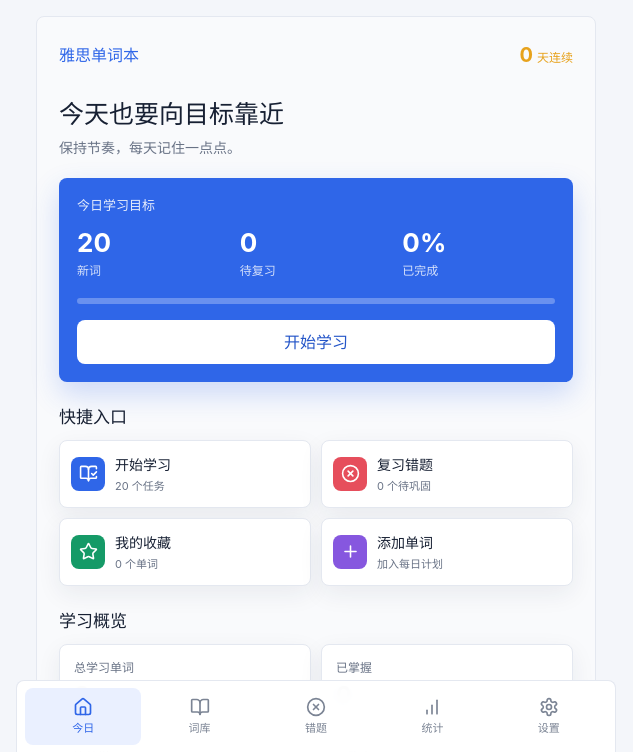
Scenario: App › loads local data and shows the approved five-tab navigation
This screenshot has width=633, height=752.
Expected: the heading "今天也要向目标靠近" is shown, [59, 99, 284, 129]
Expected: the button "今日" is shown, [25, 688, 141, 745]
Click the button "词库" at [200, 716], box [141, 688, 258, 745]
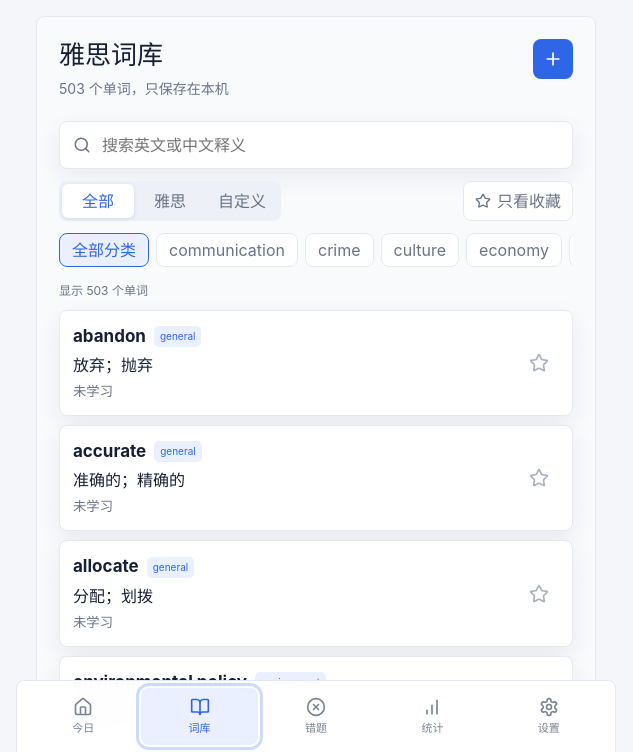
Now the heading "雅思词库" is shown, box [59, 39, 163, 70]
Click the button "错题" at [316, 716], box [258, 688, 374, 745]
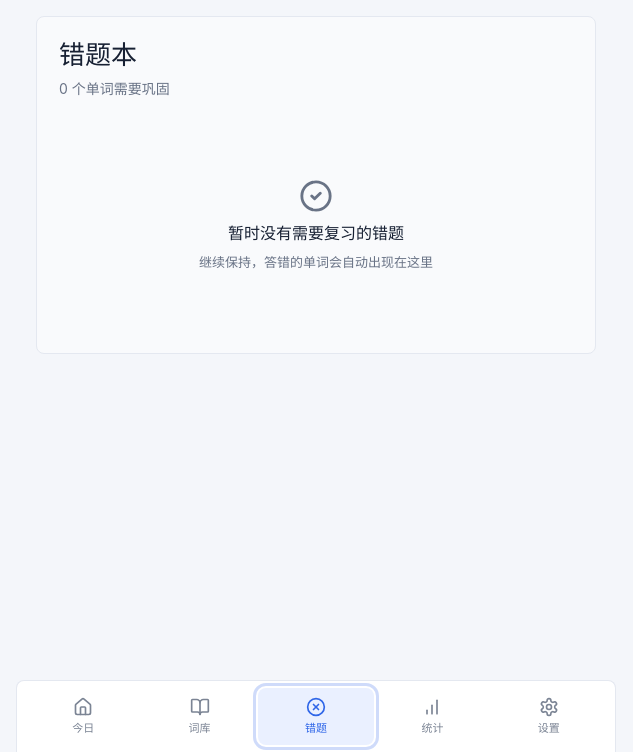
Now the heading "错题本" is shown, box [59, 39, 137, 70]
Click the button "设置" at [549, 716], box [491, 688, 607, 745]
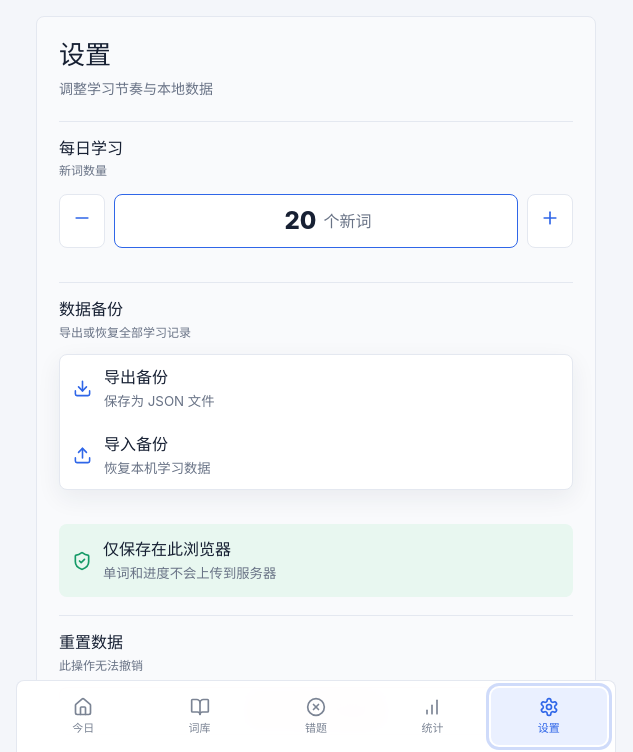
Now the number field named "每日新词数" is shown, box [260, 202, 318, 240]
